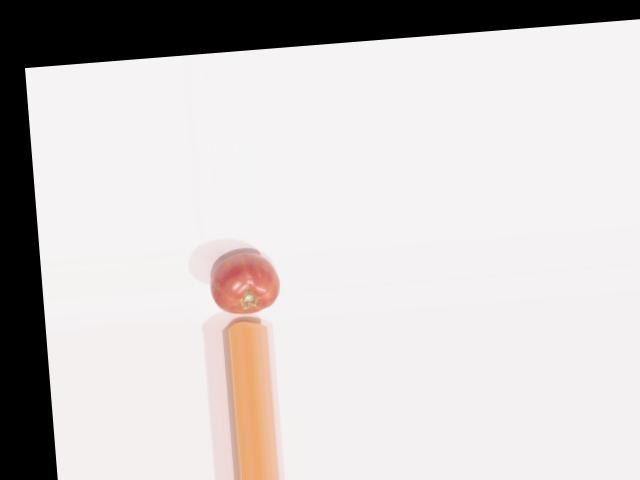tomato: (209, 250, 282, 315)
